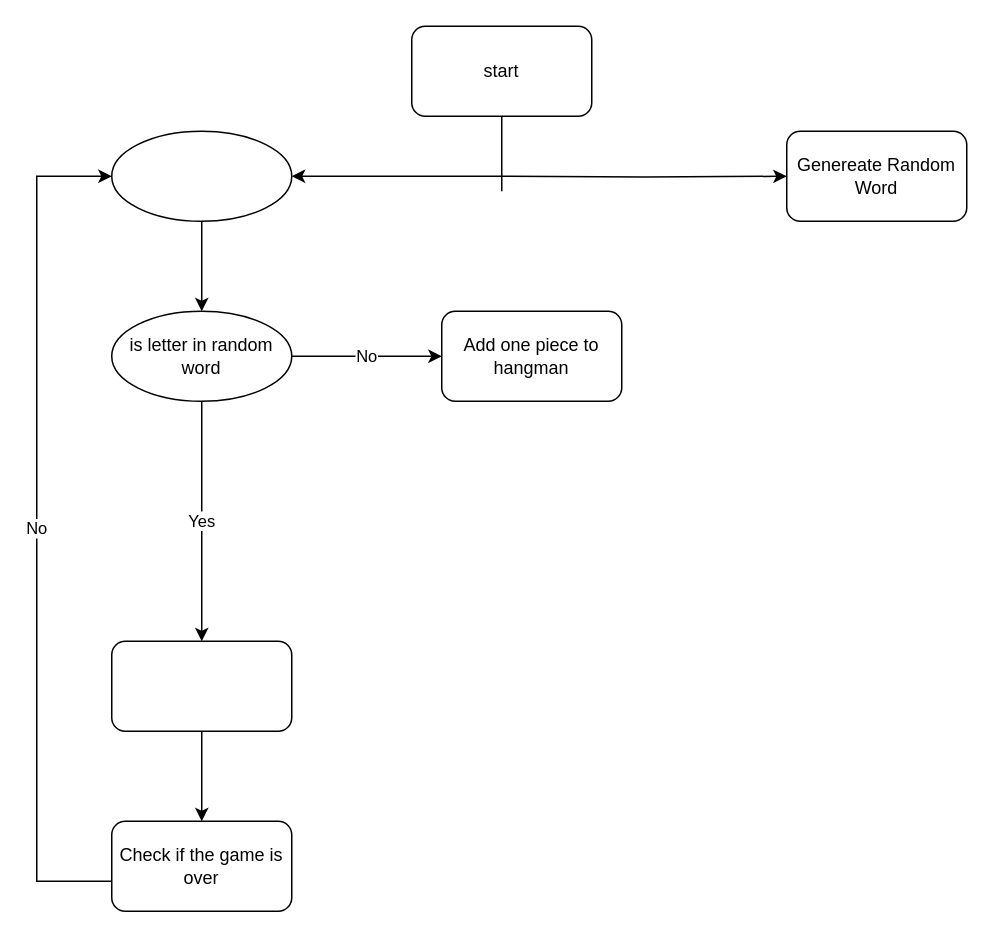
The diagram is 993 pixels wide and 938 high, and some of its shapes have lost their labels. The shapes that lost their labels are listed below. From the top down, each one's centre as x and y in pixels, then its label:
At point (201, 175): "pick letter".
At point (201, 685): "Reavel Letter".
